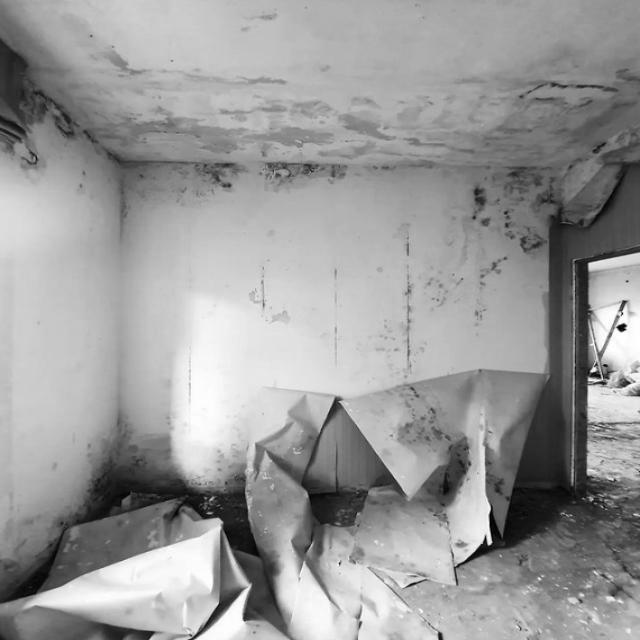stain marks: (0, 0, 640, 221), (240, 218, 548, 384), (118, 402, 251, 492), (48, 422, 116, 526), (1, 482, 57, 594), (154, 333, 209, 413)
